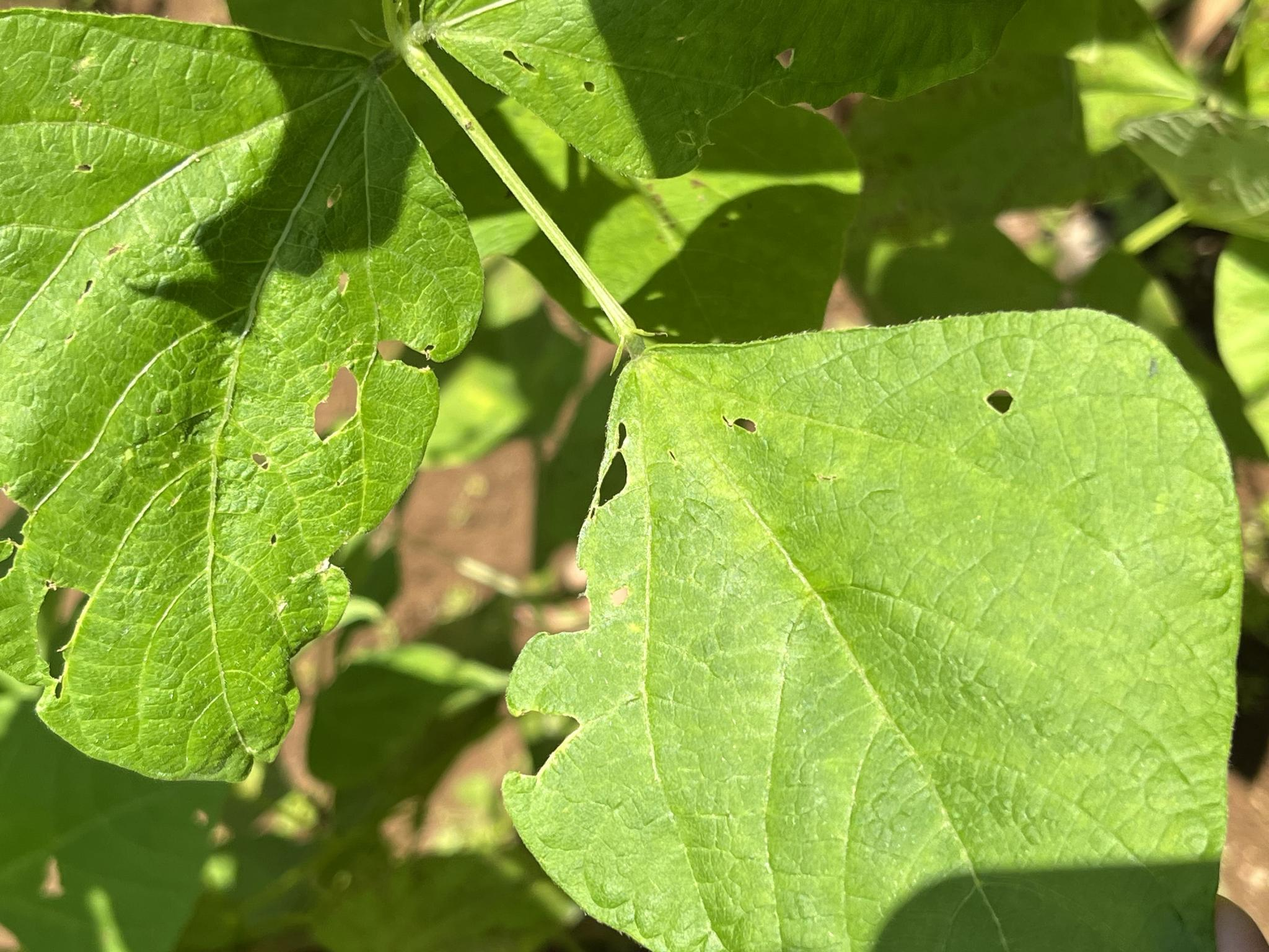mozaik: (497, 672, 588, 789), (36, 583, 97, 699), (0, 480, 50, 608), (961, 369, 1043, 438), (585, 401, 627, 524), (312, 350, 355, 446), (726, 404, 781, 453)
